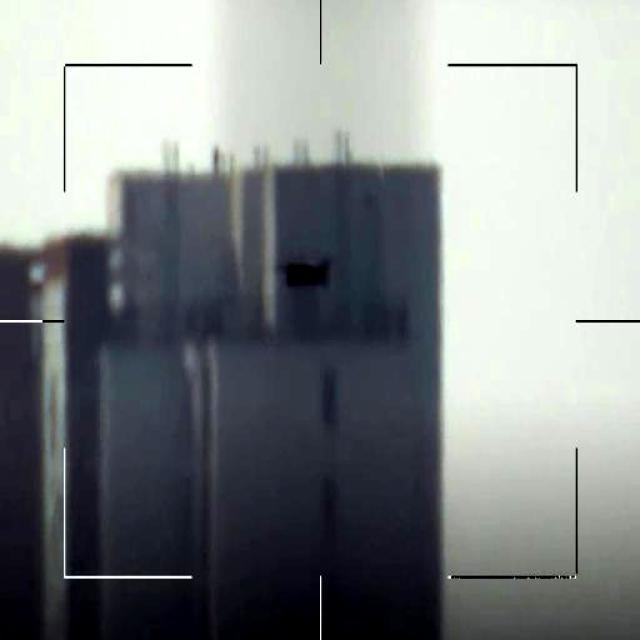bird: (285, 258, 340, 298)
